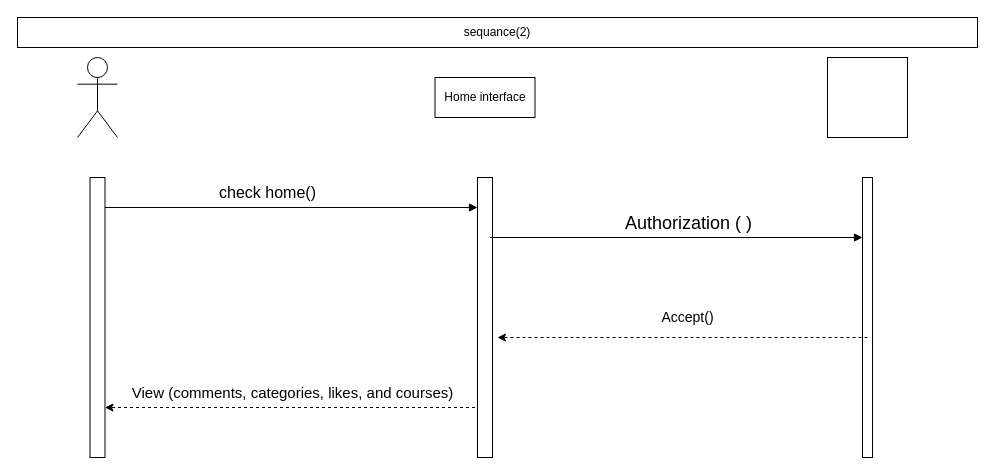
Some shapes in this 995 by 475 pixel diagram are drawn without their labels. The shapes that lost their labels are listed below. From the top down, each one's box as (x1, y1, x2, y2) in pixels, then its label:
(76, 56, 118, 138): student
(826, 56, 908, 138): Data base
